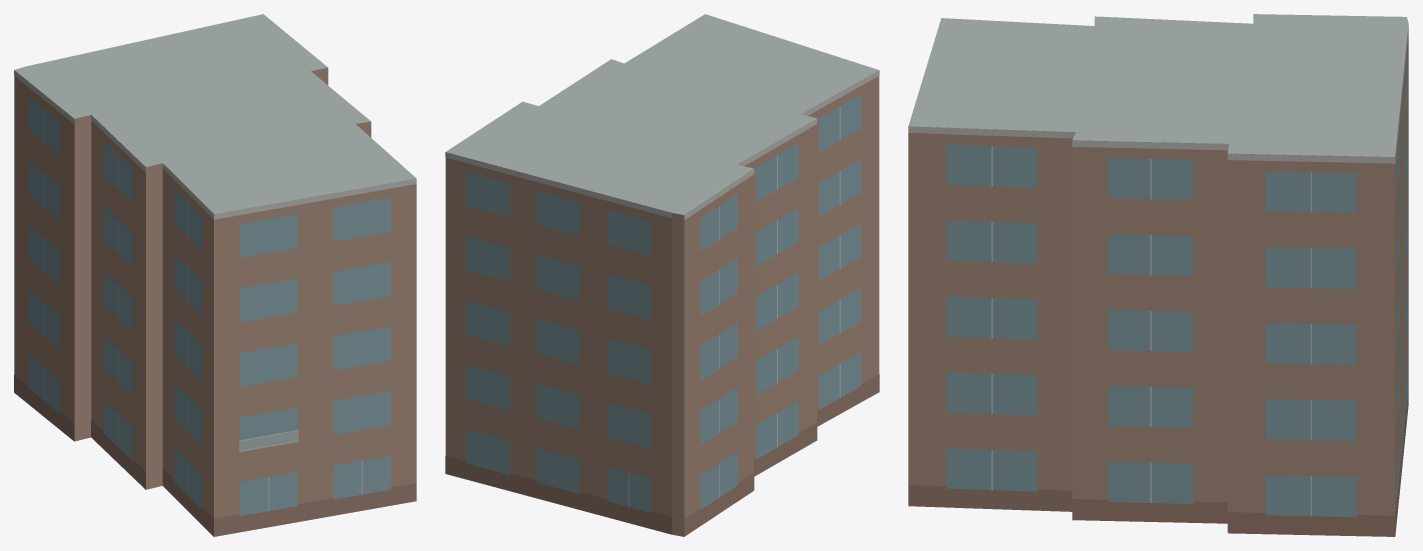
The model's file is survey-upis-32739042.glb.
3 renders of one model, left to right at view 1: azimuth 30°, elevation 25°; view 2: azimuth 150°, elevation 25°; view 3: azimuth 270°, elevation 25°, orthographic. The views are drawn at different scales.
Visible parts, largest first — view 1: survey-upis-32739042.tmp; view 2: survey-upis-32739042.tmp; view 3: survey-upis-32739042.tmp.
Boxes of the visible parts, x1=… form: survey-upis-32739042.tmp: x1=14, y1=14, x2=416, y2=536; survey-upis-32739042.tmp: x1=445, y1=14, x2=879, y2=536; survey-upis-32739042.tmp: x1=908, y1=14, x2=1408, y2=536.
Bounding box in the file's own units: 11.57 × 14.3 × 17.08.
